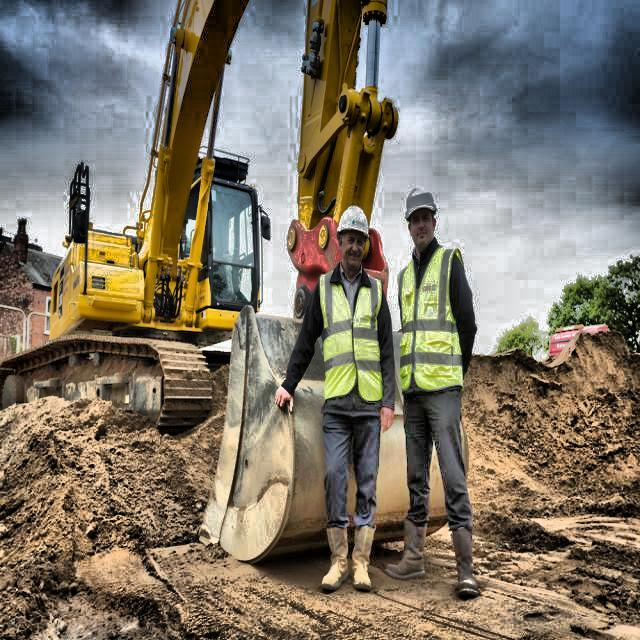person: (391, 174, 483, 604), (314, 200, 391, 598)
